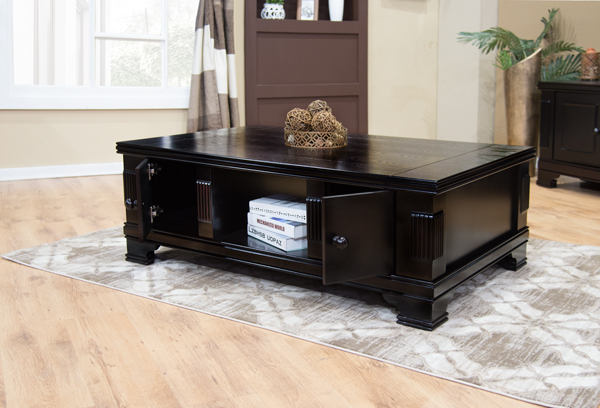table: (107, 118, 544, 337)
